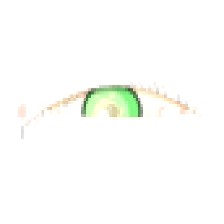corneal_ulcer: (76, 93, 137, 142)
